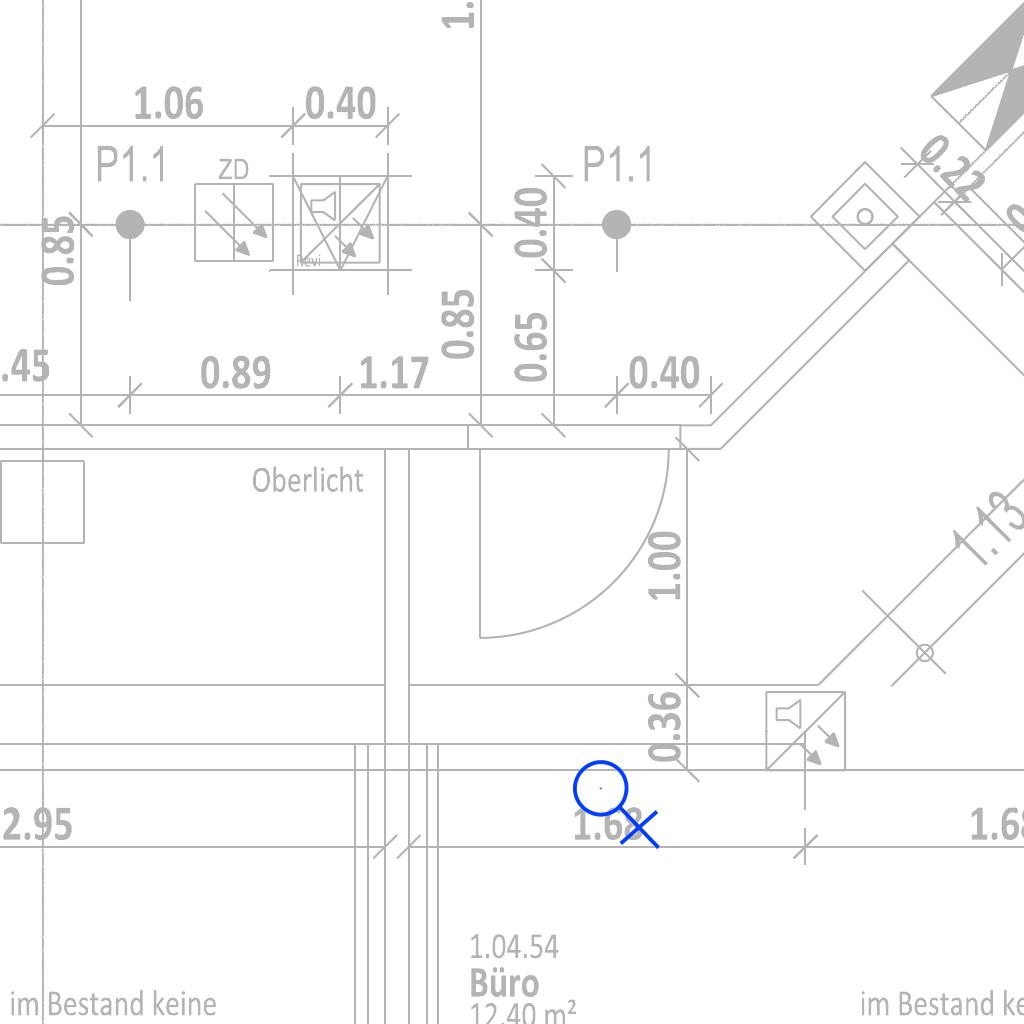Elektroanschluss_allgemein_230V_Geraeteanschlussdose_230V: (571, 751, 665, 850)
